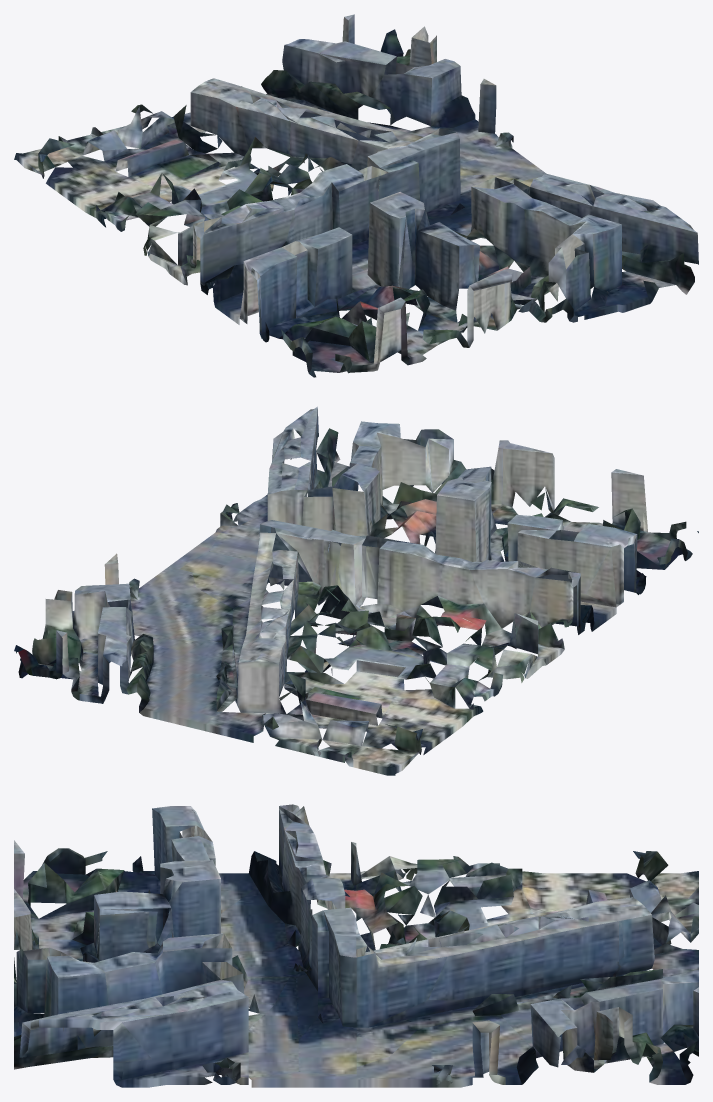
3 renders of one model, top to bottom at view 1: azimuth 30°, elevation 25°; view 2: azimuth 150°, elevation 25°; view 3: azimuth 270°, elevation 25°, orthographic. The views are drawn at different scales.
Visible parts, largest first — view 1: 30436272704361615_0; view 2: 30436272704361615_0; view 3: 30436272704361615_0.
Part boxes in pixels (box(x1,y1,x2,y2)): 30436272704361615_0: box(14, 14, 698, 377); 30436272704361615_0: box(14, 406, 698, 775); 30436272704361615_0: box(14, 804, 698, 1087).
Bounding box in the file's own units: 221 × 48.09 × 306.
Materials: 1 (1 with a texture image).
